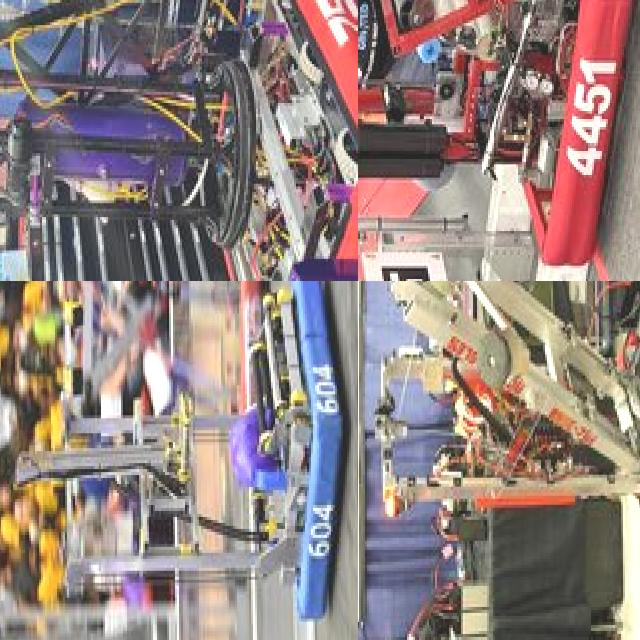FRC-Robots: (2, 281, 347, 640), (0, 0, 358, 281), (358, 281, 640, 613), (358, 0, 640, 281), (133, 281, 269, 470)
